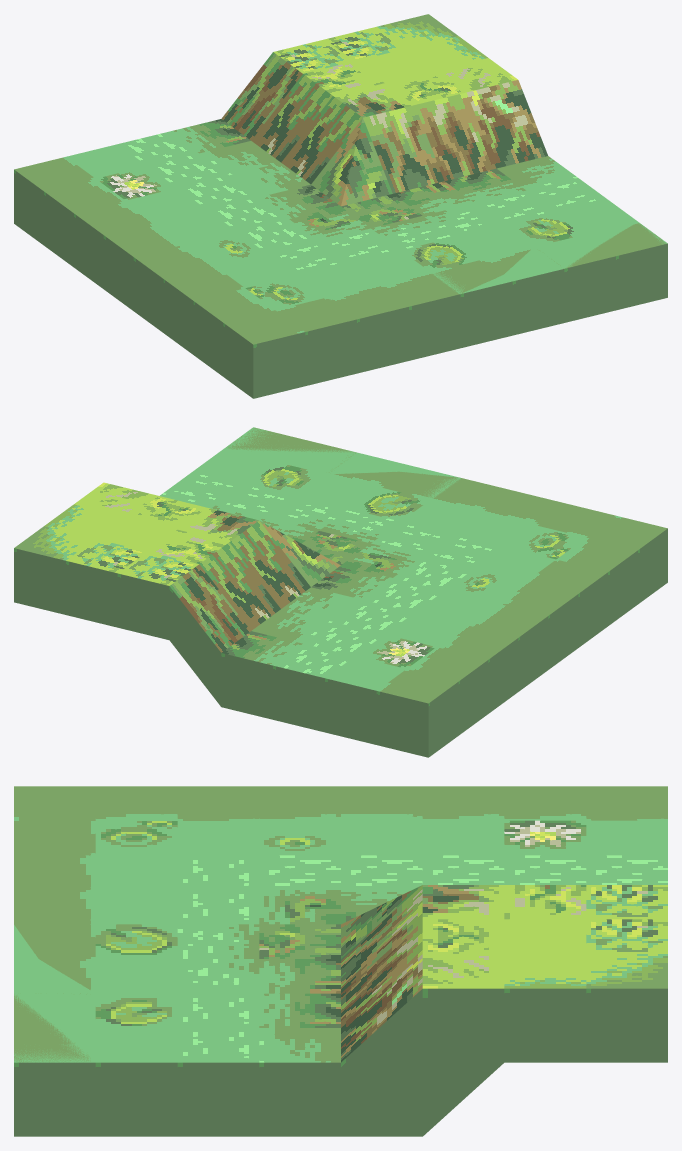
File: test_room_small.gltf
3 views of the same model, one above another, from view 1: azimuth 30°, elevation 25°; view 2: azimuth 150°, elevation 25°; view 3: azimuth 270°, elevation 25° (orthographic). The views are drawn at different scales.
Bounding box in the file's own units: 8 × 2 × 8.
1 material, 1 textured.
